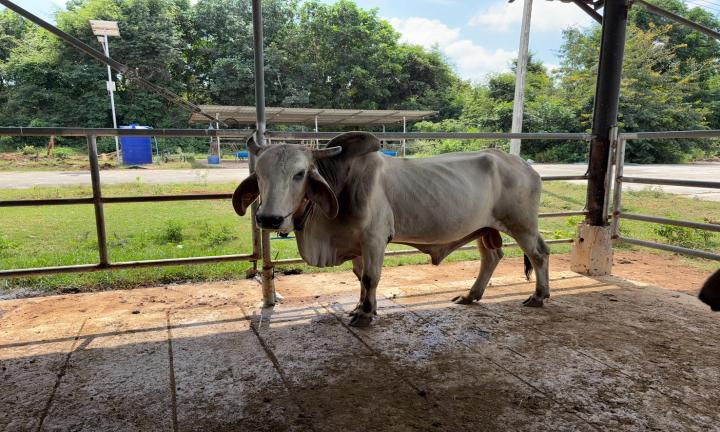Brahman: (232, 131, 549, 326)
